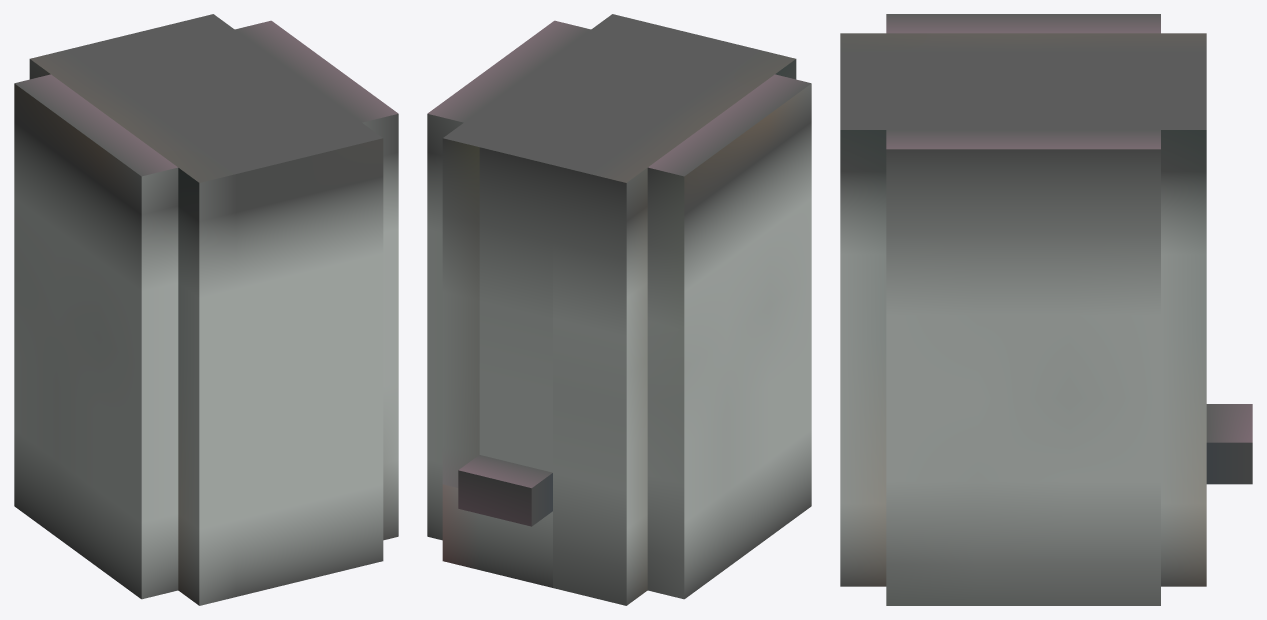
File: TrashBinSteel_00.fbx
3 renders of one model, left to right at view 1: azimuth 30°, elevation 25°; view 2: azimuth 150°, elevation 25°; view 3: azimuth 270°, elevation 25°, orthographic. The views are drawn at different scales.
Parts seen in each view (by area): view 1: TrashBinSteel_00; view 2: TrashBinSteel_00; view 3: TrashBinSteel_00.
Part boxes in pixels (x1,y1,x2,y2): TrashBinSteel_00: (14, 14, 398, 605); TrashBinSteel_00: (427, 14, 811, 605); TrashBinSteel_00: (840, 14, 1252, 605).
Size of the model in its own units: 35 by 45 by 55.
1 material, 1 textured.
